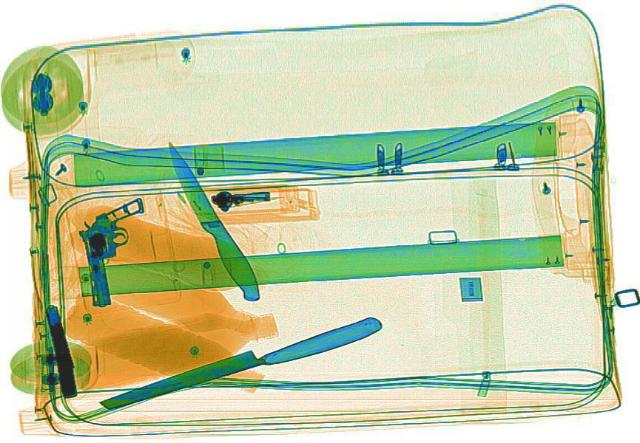Gun: (74, 195, 156, 306), (40, 301, 80, 397)
Knife: (95, 310, 388, 417), (156, 139, 268, 302)
